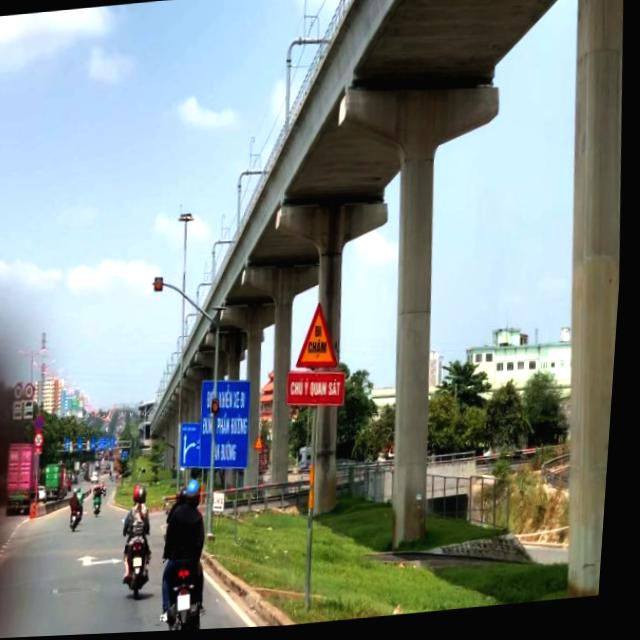Cam dung xe va do xe: (39, 415, 51, 433)
Di cham: (296, 302, 348, 377)
Toc do toi da cho phep: (18, 383, 29, 401), (29, 383, 40, 400)
